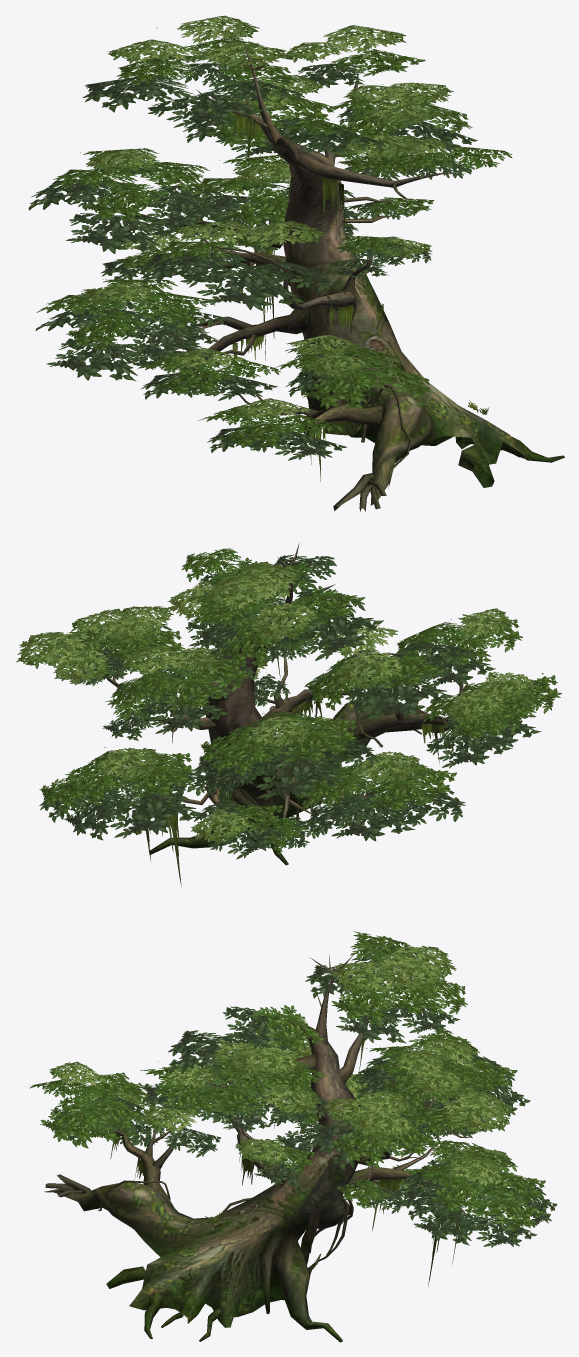
File: S_Tree_Green146_H1.FBX
3 views of the same model, one above another, from view 1: azimuth 30°, elevation 25°; view 2: azimuth 150°, elevation 25°; view 3: azimuth 270°, elevation 25° (orthographic). The views are drawn at different scales.
Visible parts, largest first — view 1: S_Tree_Green146_H1_2, S_Tree_Green146_H1_1; view 2: S_Tree_Green146_H1_2, S_Tree_Green146_H1_1; view 3: S_Tree_Green146_H1_2, S_Tree_Green146_H1_1.
Part boxes in pixels (x1,y1,x2,y2): S_Tree_Green146_H1_2: (28, 15, 512, 481); S_Tree_Green146_H1_1: (97, 38, 564, 511); S_Tree_Green146_H1_2: (16, 548, 561, 886); S_Tree_Green146_H1_1: (64, 542, 478, 865); S_Tree_Green146_H1_2: (29, 931, 557, 1288); S_Tree_Green146_H1_1: (44, 953, 471, 1342).
Size of the model in its own units: 1735 by 1403 by 2150.
Materials: 2 (2 with a texture image).
